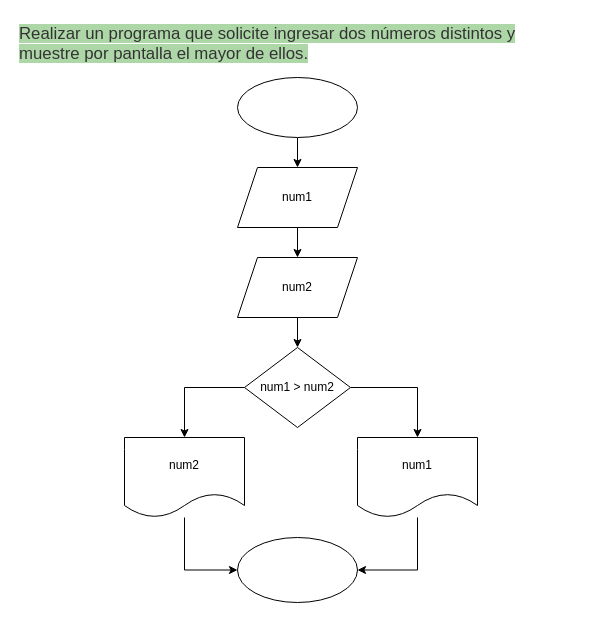
This 594x620 diagram has some shape labels left out. Here are the shapes that lost their labels. From the top down, the centre of each, then its label:
point 297,107: inicio
point 297,569: fin
